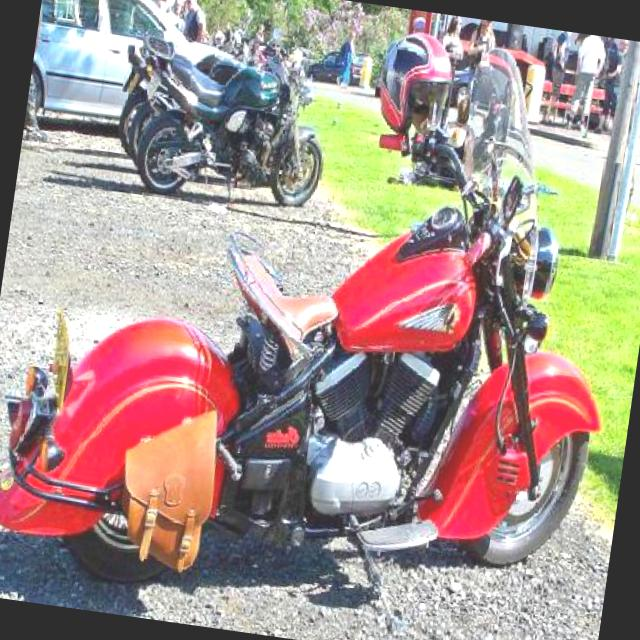Person: (170, 0, 632, 140), (390, 87, 484, 193), (432, 15, 471, 131), (564, 33, 605, 133), (539, 30, 573, 126), (336, 24, 364, 90), (180, 0, 215, 45), (469, 18, 502, 54), (250, 19, 269, 56), (171, 0, 190, 31), (151, 0, 177, 16), (224, 20, 236, 44)
